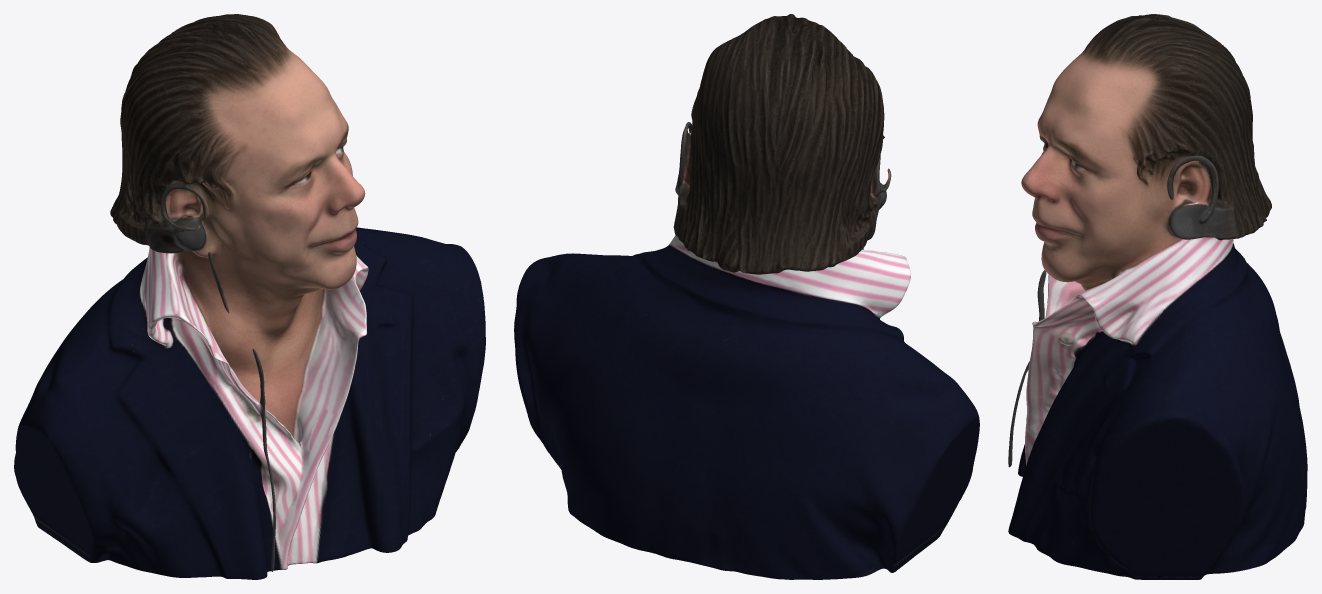
File: Meshy_AI_The_Listener_1023174918_texture.glb
The picture shows the model from 3 angles, left to right: view 1: azimuth 30°, elevation 25°; view 2: azimuth 150°, elevation 25°; view 3: azimuth 270°, elevation 25°; orthographic projection. The views are drawn at different scales.
Size of the model in its own units: 1.74 by 1.9 by 1.09.
1 material, 1 textured.
